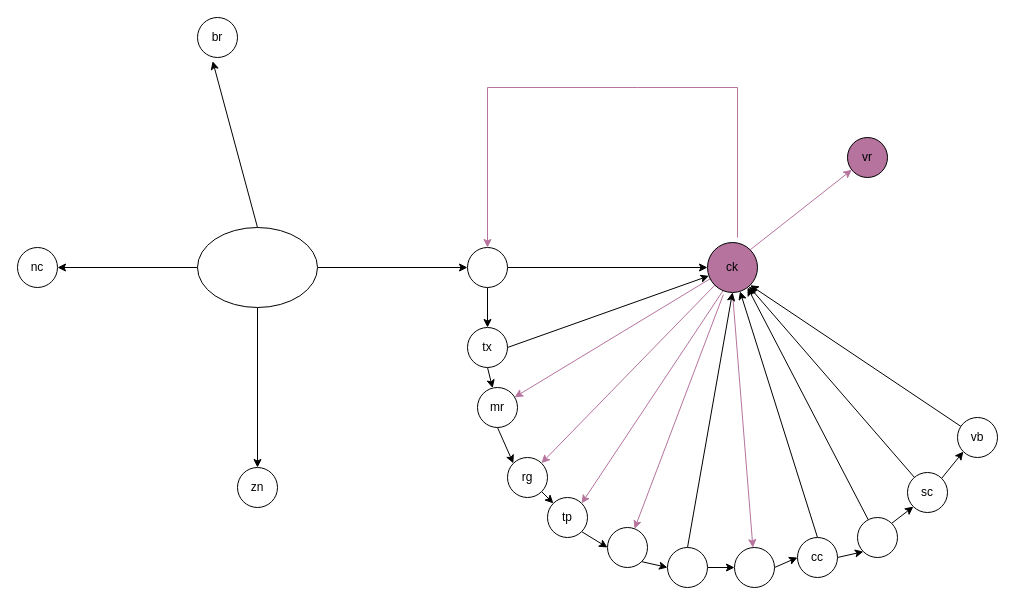
The diagram is 1015 pixels wide and 605 high, and some of its shapes have lost their labels. Here are the shapes that lost their labels. From the top down, the centre of each, then its label:
At [257,267]: "Broadcast".
At [487,267]: "tf".
At [627,547]: "pc".
At [877,537]: "rj".
At [687,567]: "vh".
At [754,567]: "tg".
